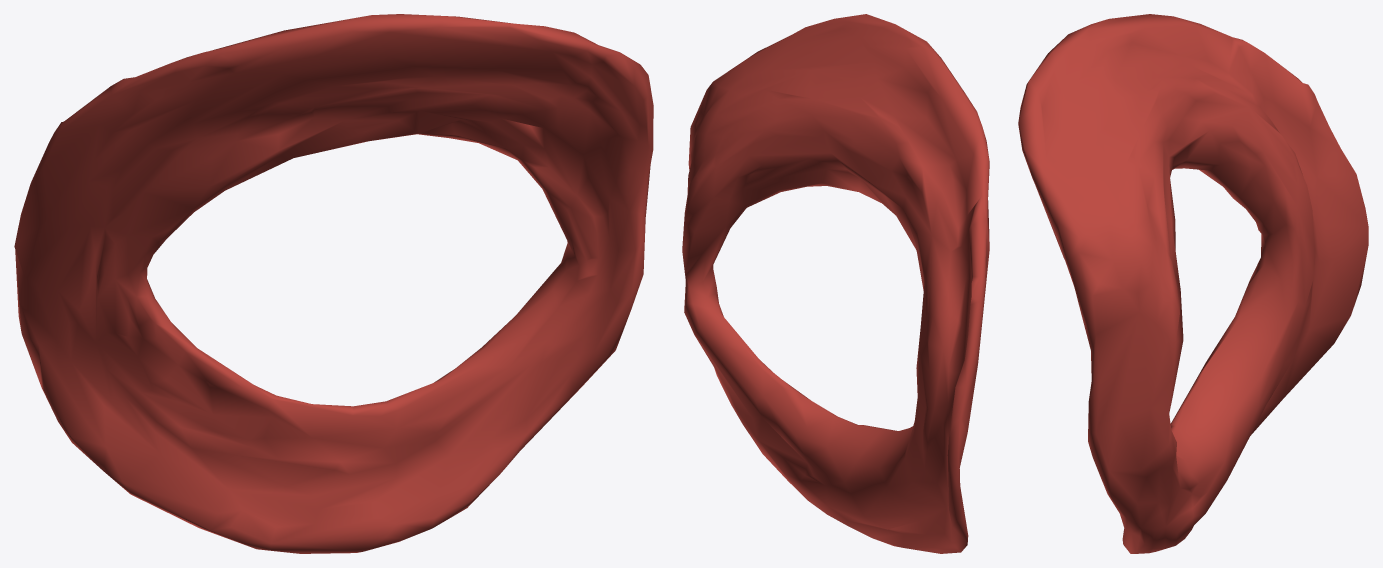
Rendered from musculos-orbital-part-of-orbicularis-oculi-r.glb.
3 views of the same model, side by side, from view 1: azimuth 30°, elevation 25°; view 2: azimuth 150°, elevation 25°; view 3: azimuth 270°, elevation 25° (orthographic). The views are drawn at different scales.
Parts seen in each view (by area): view 1: Orbital part of orbicularis oculi.r; view 2: Orbital part of orbicularis oculi.r; view 3: Orbital part of orbicularis oculi.r.
Boxes of the visible parts, left/top/right/bottom form: Orbital part of orbicularis oculi.r: left=14, top=14, right=653, bottom=553; Orbital part of orbicularis oculi.r: left=682, top=14, right=989, bottom=553; Orbital part of orbicularis oculi.r: left=1018, top=14, right=1368, bottom=553.
Bounding box in the file's own units: 0.0443 × 0.0496 × 0.0314.
